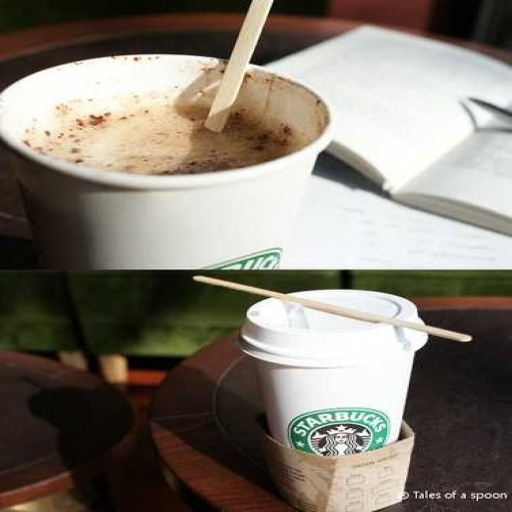cup: (0, 54, 335, 269), (236, 288, 429, 512)
